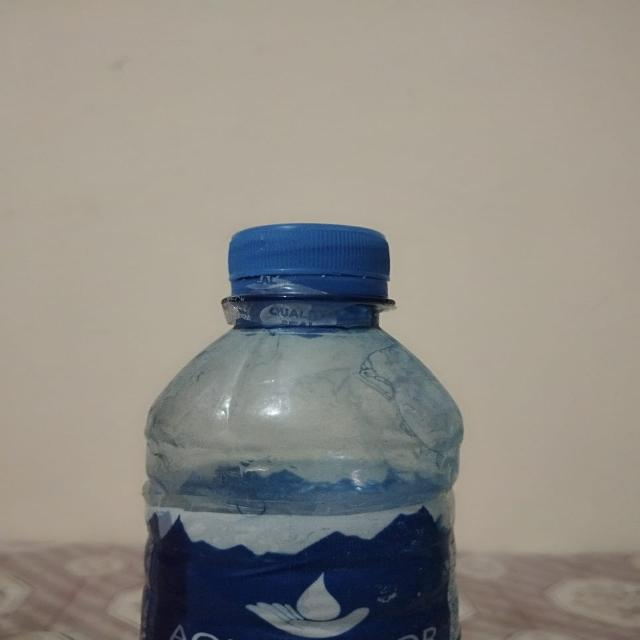cap: (227, 225, 394, 290)
label: (145, 500, 460, 640)
